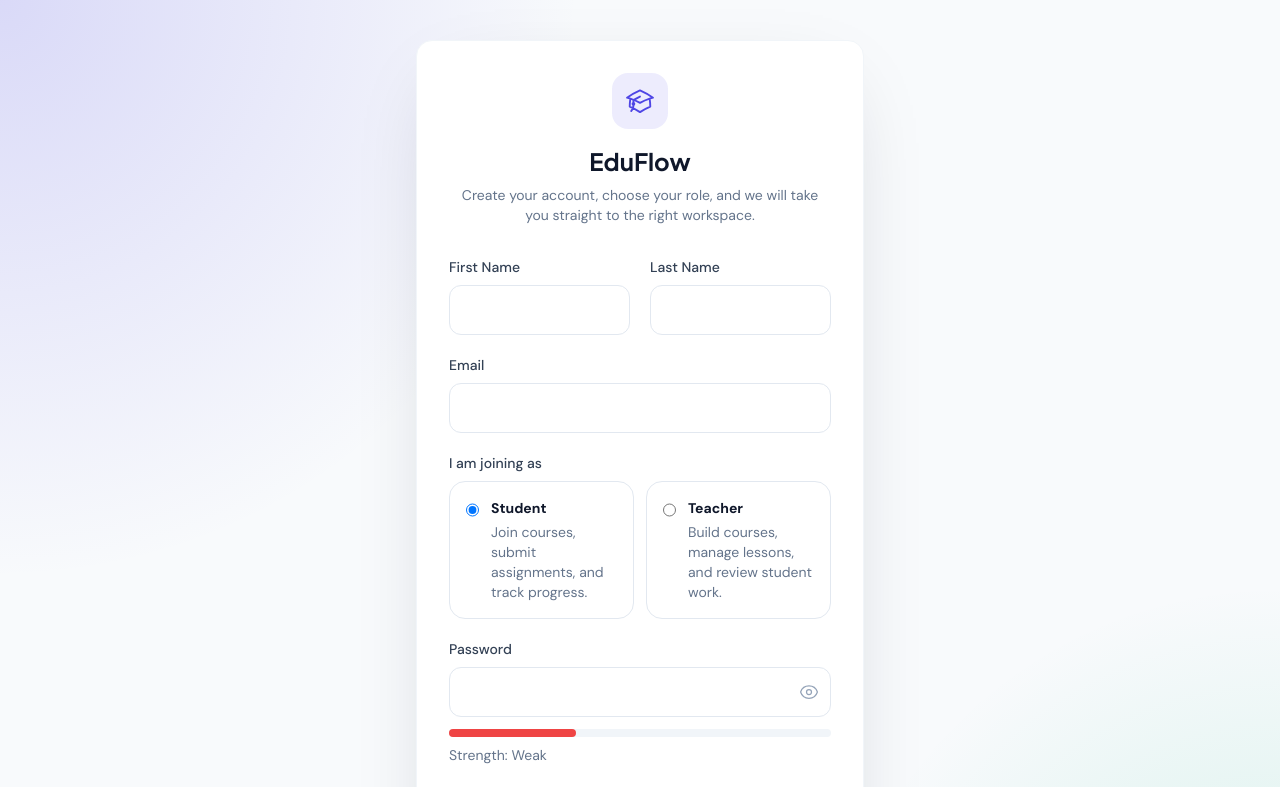
Test: Authentication UI › password strength indicator updates as user types
Type "abc" into the password field labelled "Password" at (640, 692), box [449,667,831,717]
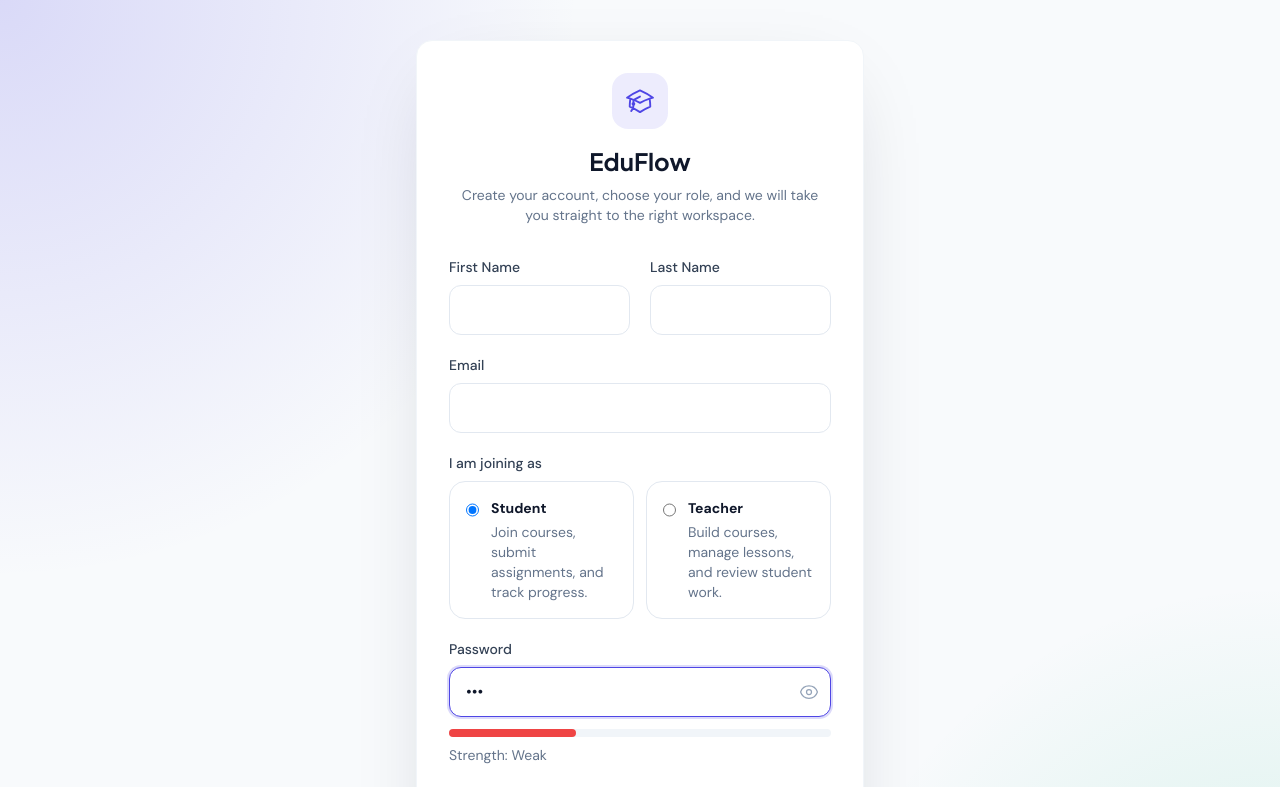
Check: the element with test id "password-strength" shows "Weak", box [511,746,547,764]
Type "Password1!" into the password field labelled "Password" at (640, 692), box [449,667,831,717]
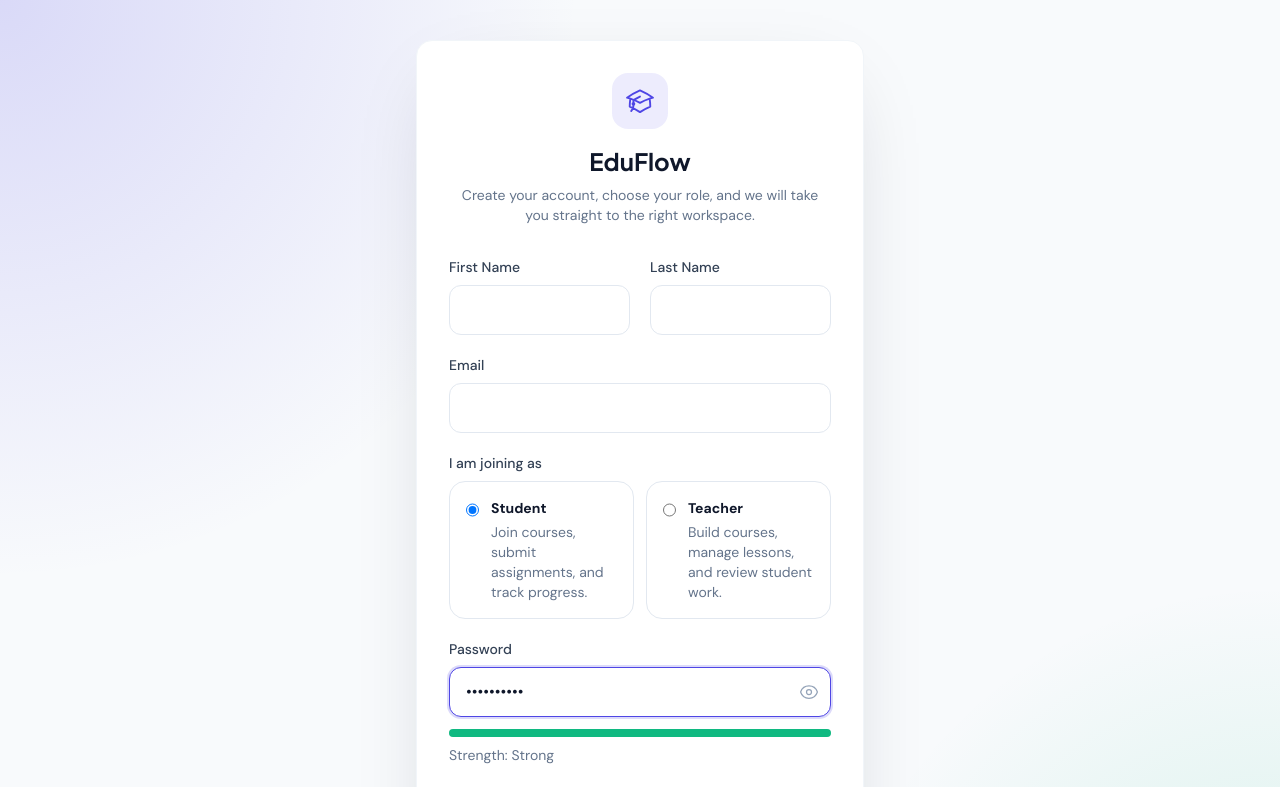
Check: the element with test id "password-strength" shows "Strong", box [511,746,554,764]
